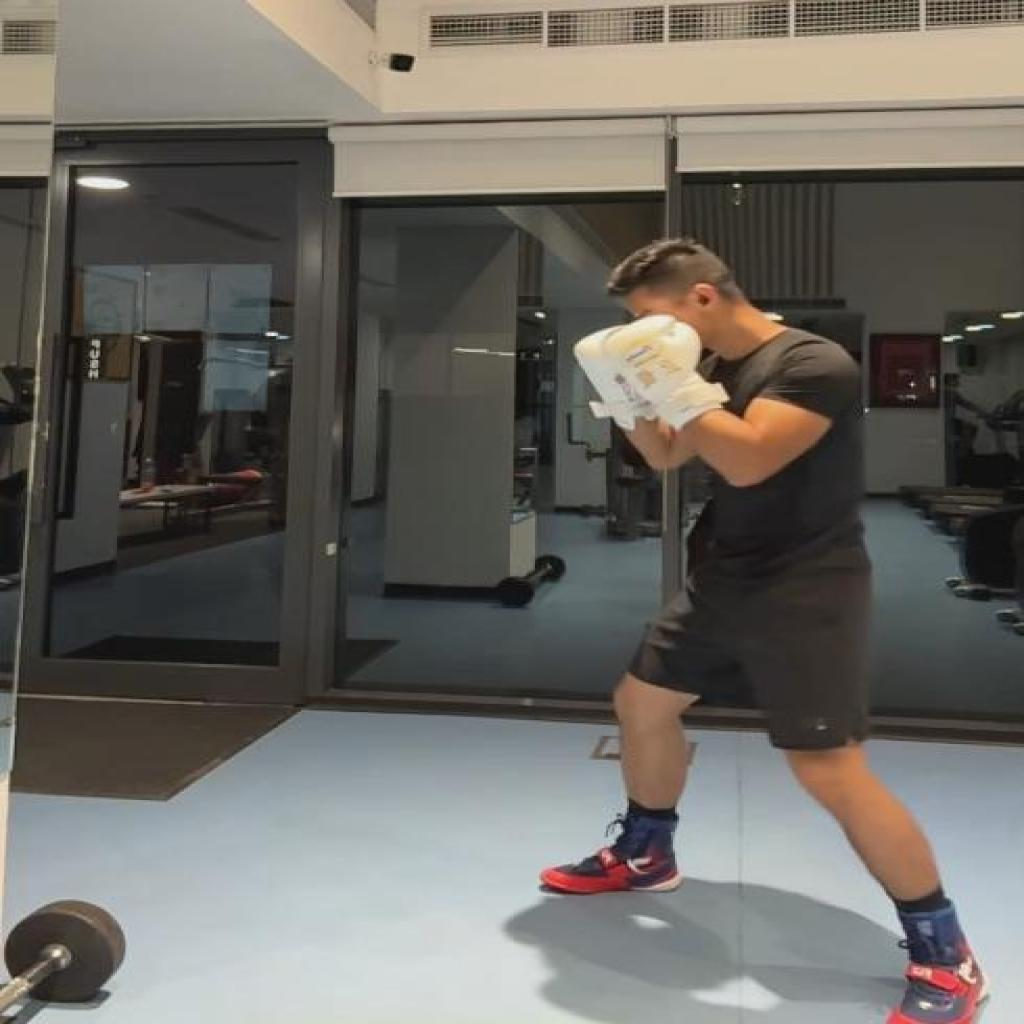no punch: (541, 238, 999, 1024)
